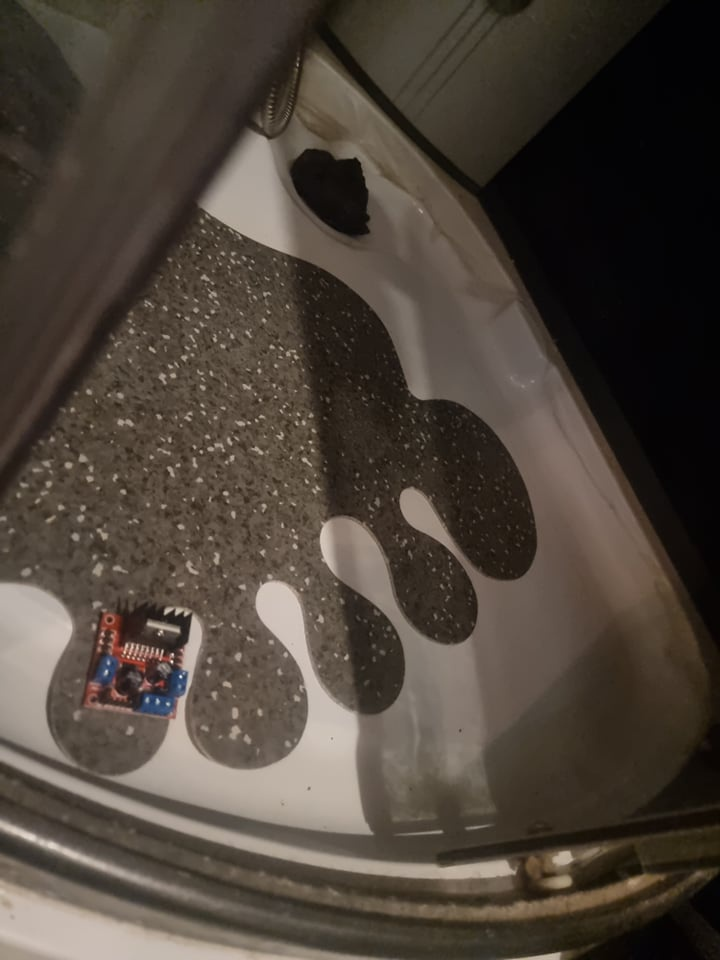MOTOR: (79, 603, 193, 723)
